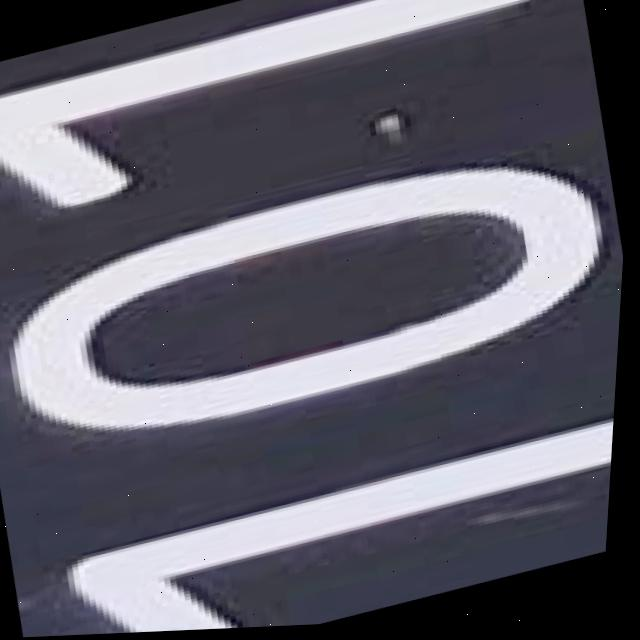character: (0, 113, 632, 486), (0, 0, 585, 236), (45, 401, 615, 636)
